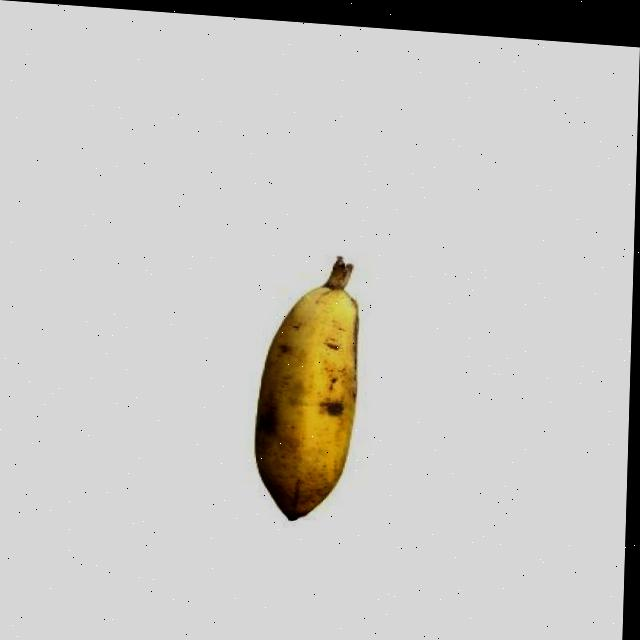banana: (246, 255, 365, 528)
